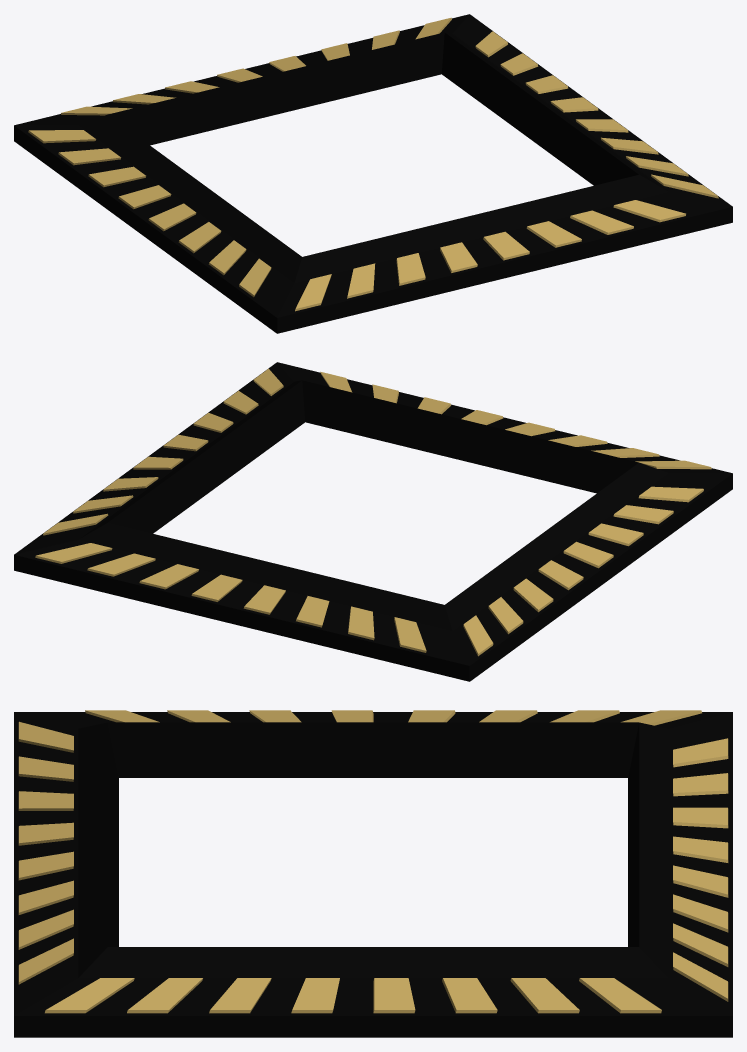
Rendered from LiftFrame.glb.
The picture shows the model from 3 angles, top to bottom: view 1: azimuth 30°, elevation 25°; view 2: azimuth 150°, elevation 25°; view 3: azimuth 270°, elevation 25°; orthographic projection. The views are drawn at different scales.
Visible parts, largest first — view 1: Frame; view 2: Frame; view 3: Frame.
Part boxes in pixels (box(x1,y1,x2,y2)): Frame: box(14, 14, 732, 333); Frame: box(14, 362, 732, 681); Frame: box(14, 710, 732, 1037).
Size of the model in its own units: 6 by 0.4692 by 6.
